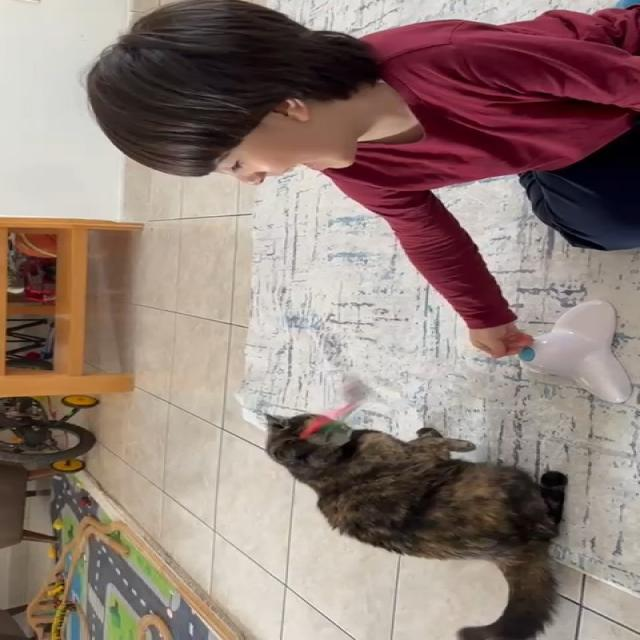authorized: (261, 411, 568, 639)
